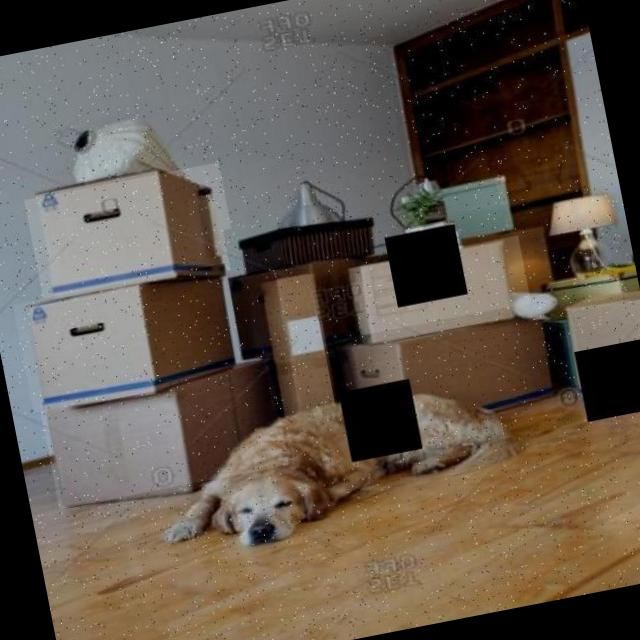box: (39, 358, 290, 509), (334, 295, 588, 439), (12, 264, 245, 413), (24, 162, 239, 307), (348, 235, 534, 349), (222, 202, 380, 286)
